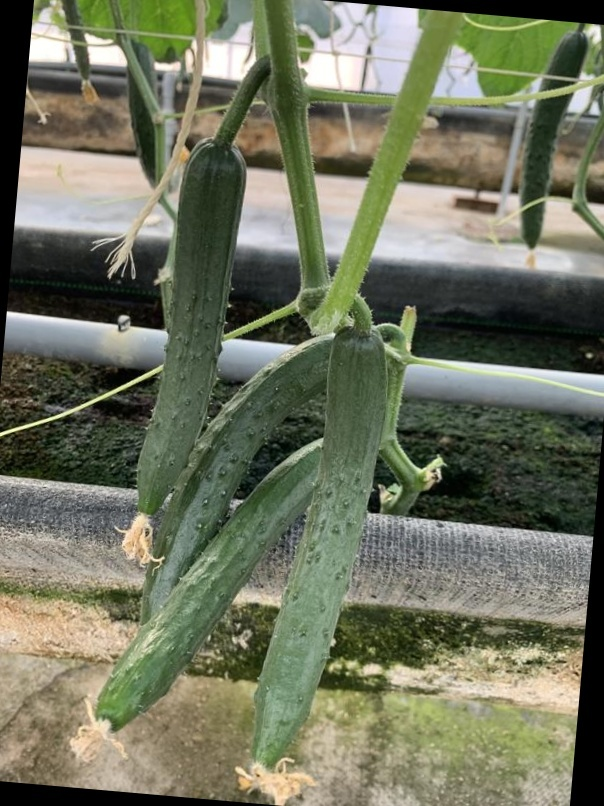mature: (96, 436, 335, 735), (241, 333, 389, 795), (124, 136, 252, 528)
